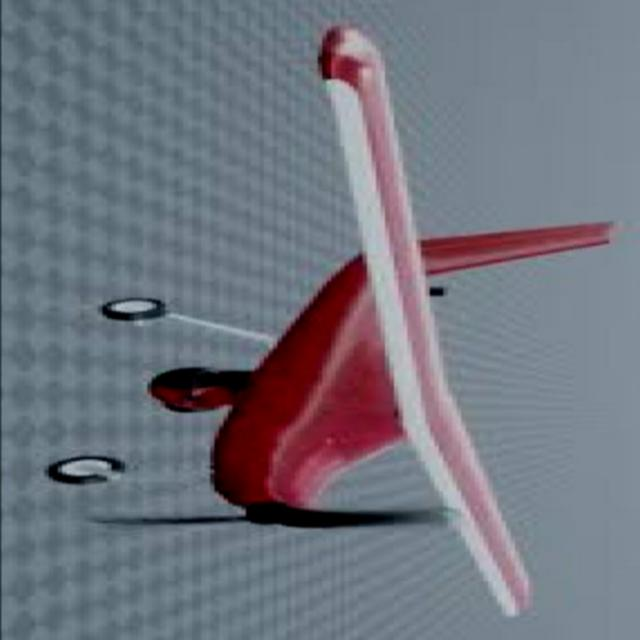plane: (45, 24, 628, 620)
